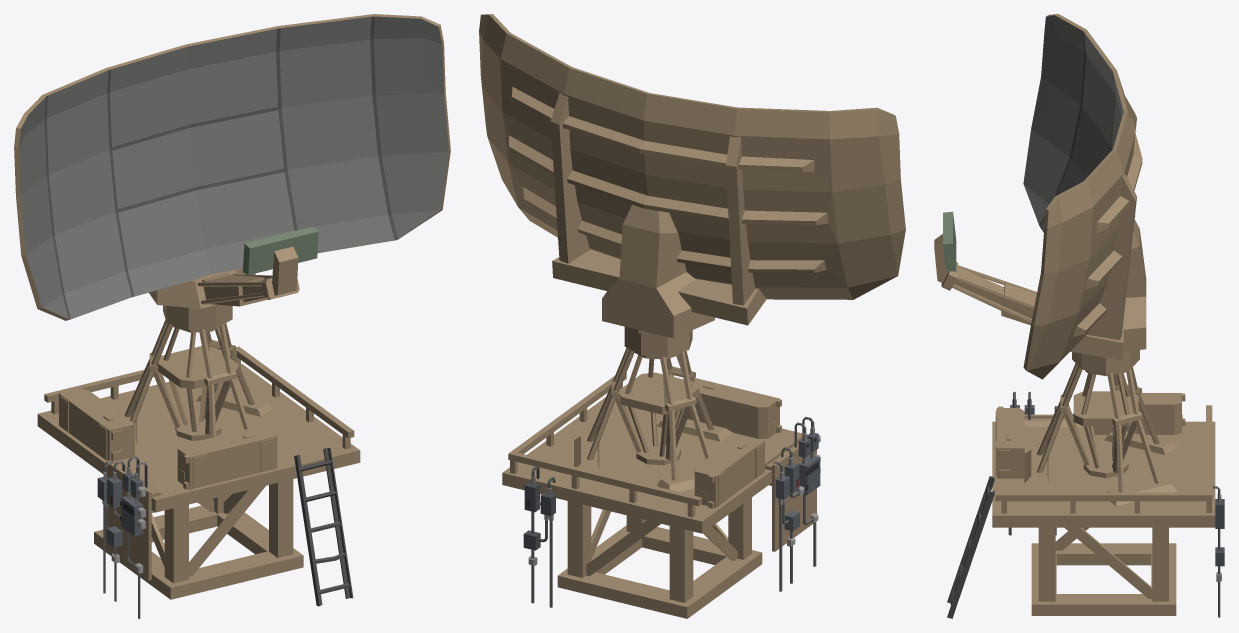
File: SM_Prop_Satelite_Dish_02.fbx
The picture shows the model from 3 angles, left to right: view 1: azimuth 30°, elevation 25°; view 2: azimuth 150°, elevation 25°; view 3: azimuth 270°, elevation 25°; orthographic projection. The views are drawn at different scales.
Visible parts, largest first — view 1: SM_Prop_Satelite_Dish_02_Top, SM_Prop_Satelite_Dish_02; view 2: SM_Prop_Satelite_Dish_02_Top, SM_Prop_Satelite_Dish_02; view 3: SM_Prop_Satelite_Dish_02, SM_Prop_Satelite_Dish_02_Top.
Boxes of the visible parts, <box> form: SM_Prop_Satelite_Dish_02_Top: <box>14,14,450,320</box>; SM_Prop_Satelite_Dish_02: <box>37,304,360,618</box>; SM_Prop_Satelite_Dish_02_Top: <box>479,14,905,338</box>; SM_Prop_Satelite_Dish_02: <box>502,326,820,618</box>; SM_Prop_Satelite_Dish_02: <box>947,350,1224,618</box>; SM_Prop_Satelite_Dish_02_Top: <box>934,14,1146,379</box>.
Bounding box in the file's own units: 720 × 814 × 446.
